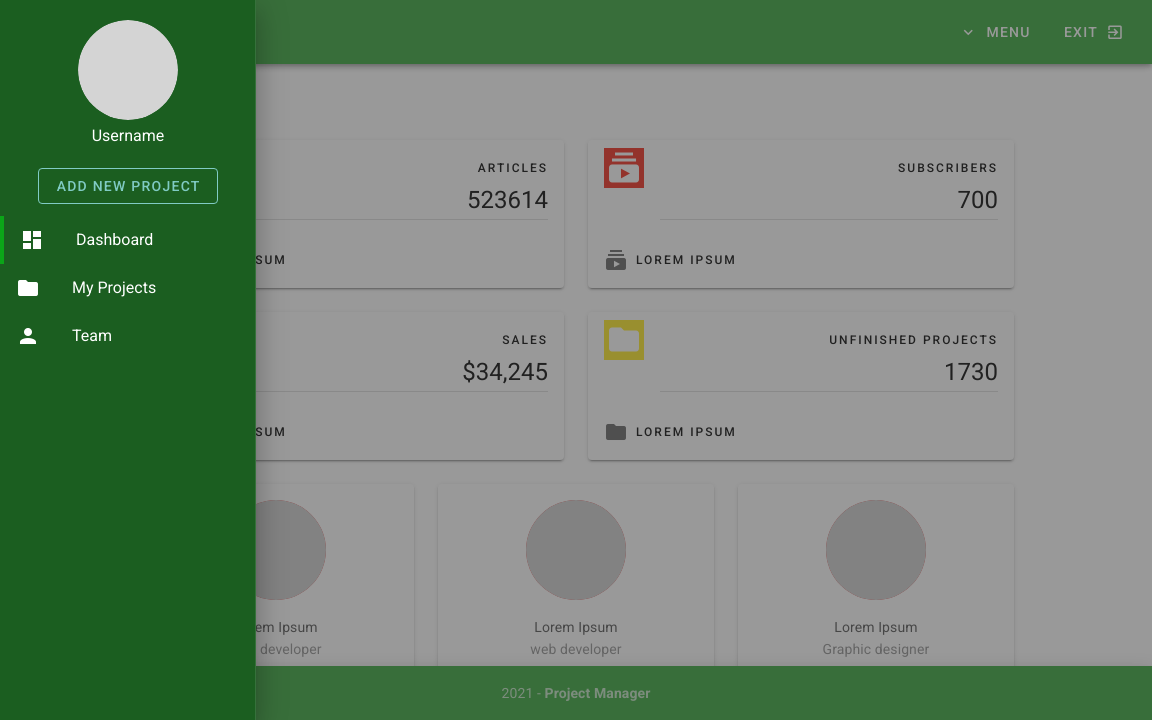
Test: Main › go to Projects through sidebar menu
Click the link "My Projects" at [86, 288], box x1=16 y1=276 x2=156 y2=300
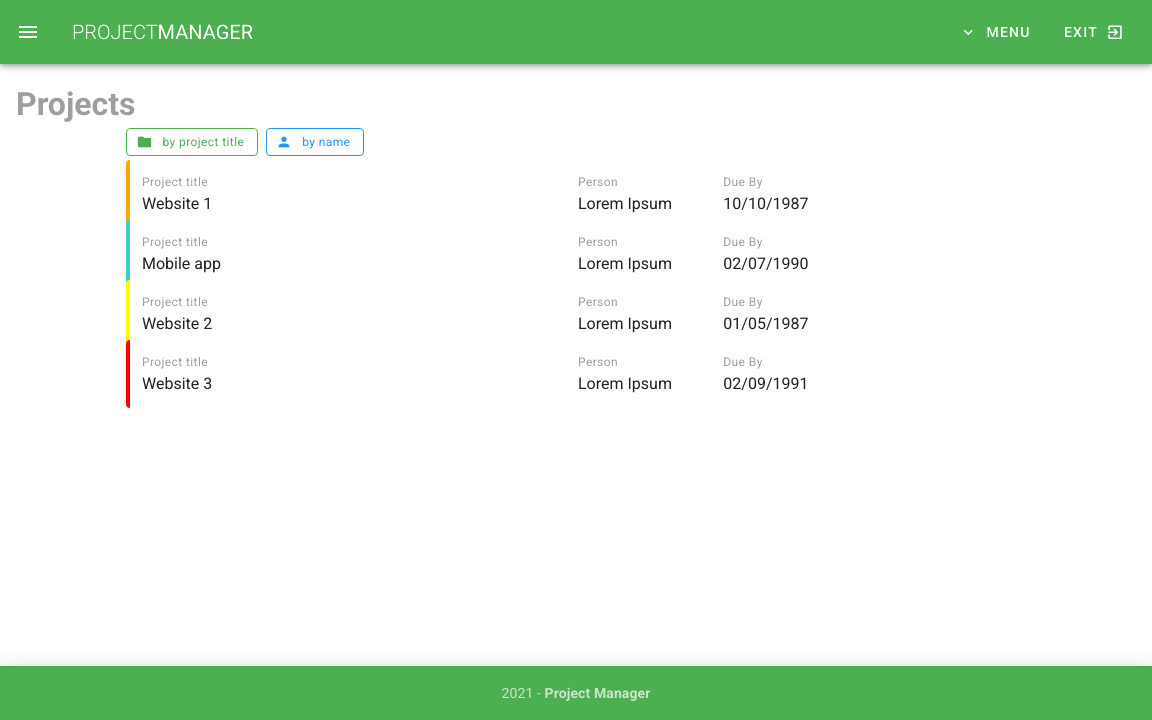
Expected: the button "Add new project" is gone
Expected: the 1st text "Project title" is shown, x1=142 y1=175 x2=208 y2=189
